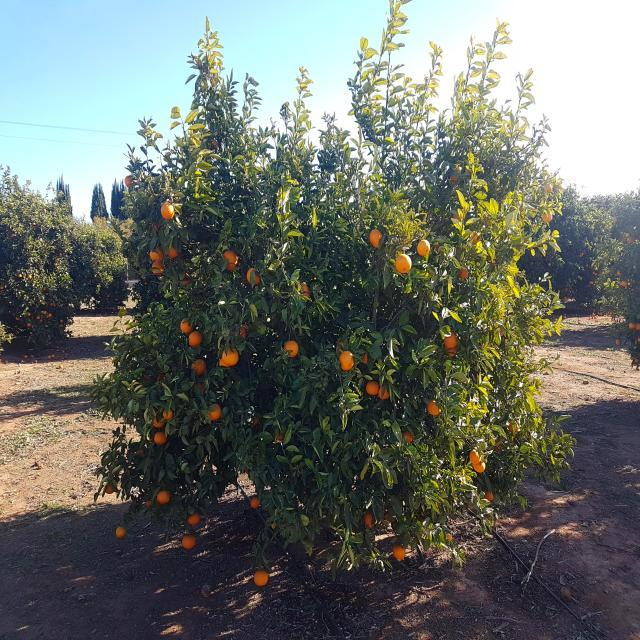Jeruk Sudah Matang: (222, 250, 238, 270), (395, 254, 412, 272), (339, 350, 354, 370), (222, 348, 238, 366), (254, 568, 269, 587), (369, 229, 384, 247), (427, 398, 442, 416), (298, 282, 310, 304), (208, 403, 222, 421), (284, 340, 298, 358), (156, 489, 172, 504), (246, 268, 261, 284), (392, 544, 406, 561), (444, 331, 458, 348), (189, 330, 202, 348), (150, 246, 165, 261), (154, 430, 168, 446), (182, 534, 196, 550), (363, 350, 377, 366), (450, 165, 462, 183), (192, 359, 206, 374), (169, 243, 182, 259), (366, 381, 379, 397), (162, 202, 174, 219), (418, 239, 430, 256), (152, 414, 166, 428), (444, 343, 458, 357), (378, 386, 391, 400), (469, 450, 482, 464), (364, 512, 376, 527), (152, 260, 164, 274), (180, 318, 192, 332), (336, 341, 348, 354), (474, 461, 486, 474), (471, 231, 482, 245), (453, 208, 465, 220), (207, 139, 218, 152), (180, 270, 190, 284), (124, 175, 134, 188), (236, 325, 246, 338), (105, 480, 114, 494), (483, 490, 494, 501), (164, 408, 174, 420), (116, 526, 126, 538), (188, 514, 200, 524), (194, 382, 206, 392), (494, 440, 504, 452), (220, 358, 230, 369), (458, 267, 468, 278), (251, 496, 260, 508), (403, 431, 412, 443), (510, 422, 520, 432), (542, 212, 552, 222), (276, 428, 284, 440), (384, 511, 392, 523), (544, 183, 552, 194), (158, 373, 166, 382), (135, 448, 144, 456), (621, 279, 629, 288), (153, 221, 160, 231), (146, 498, 153, 508), (444, 532, 452, 540), (612, 216, 620, 224), (627, 237, 634, 244), (144, 375, 152, 381), (616, 338, 622, 346), (617, 268, 623, 276), (630, 322, 636, 330), (254, 416, 259, 425), (245, 467, 250, 475), (635, 322, 640, 330), (270, 523, 276, 529), (48, 354, 52, 360), (48, 312, 52, 318), (144, 280, 148, 286), (626, 232, 630, 238), (27, 274, 32, 278), (16, 316, 20, 321), (27, 322, 31, 327), (10, 234, 15, 238), (636, 358, 640, 363), (637, 336, 640, 342), (0, 286, 4, 290), (18, 274, 22, 278), (30, 354, 34, 358), (51, 354, 55, 358), (56, 346, 60, 350), (36, 316, 40, 320), (43, 310, 47, 314), (54, 263, 58, 267), (55, 258, 59, 262), (60, 324, 64, 328), (154, 294, 158, 298), (594, 272, 598, 276), (554, 318, 558, 322), (633, 265, 637, 269), (59, 364, 62, 369), (49, 302, 52, 306), (52, 302, 55, 306), (43, 288, 46, 292), (32, 222, 36, 225), (60, 319, 63, 323), (124, 255, 128, 258), (548, 262, 551, 266), (596, 266, 599, 270), (588, 316, 591, 320), (61, 351, 64, 354), (540, 254, 543, 257), (564, 296, 567, 299), (579, 255, 582, 258), (581, 252, 584, 255), (596, 315, 599, 318), (610, 312, 613, 315), (28, 312, 30, 316), (0, 358, 2, 362), (22, 354, 24, 358), (24, 356, 28, 358), (46, 316, 50, 318), (59, 324, 61, 328), (108, 294, 110, 298), (128, 248, 130, 252), (578, 318, 580, 322), (35, 360, 37, 363), (536, 255, 538, 258), (552, 255, 554, 258), (556, 267, 558, 270), (565, 288, 568, 290), (586, 264, 588, 267), (589, 281, 591, 284), (591, 282, 594, 284), (592, 272, 595, 274), (564, 316, 566, 319), (564, 313, 566, 316), (592, 314, 595, 316), (594, 316, 596, 319), (575, 314, 578, 316), (40, 320, 42, 322), (42, 312, 44, 314), (66, 286, 68, 288), (80, 307, 82, 309), (106, 298, 108, 300), (98, 293, 100, 295), (99, 296, 101, 298), (85, 276, 87, 278), (532, 262, 534, 264), (558, 290, 560, 292), (13, 314, 14, 316), (116, 291, 117, 293), (119, 302, 120, 304), (121, 284, 122, 286), (95, 275, 96, 277)
